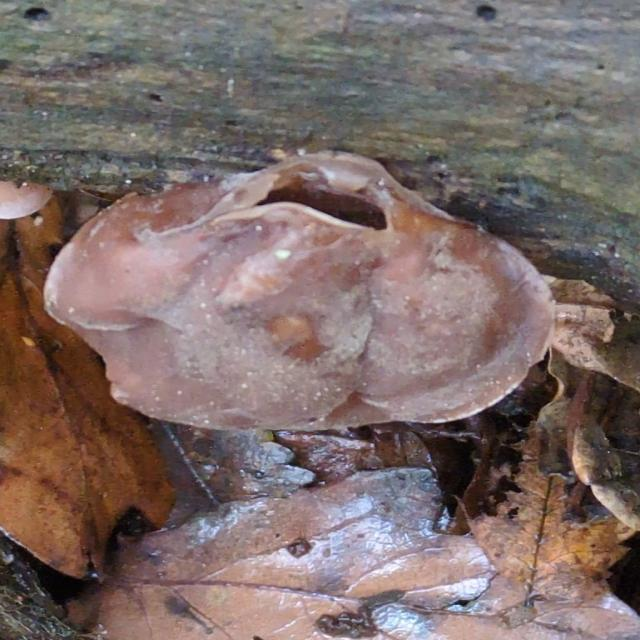Matang: (39, 147, 561, 449)
